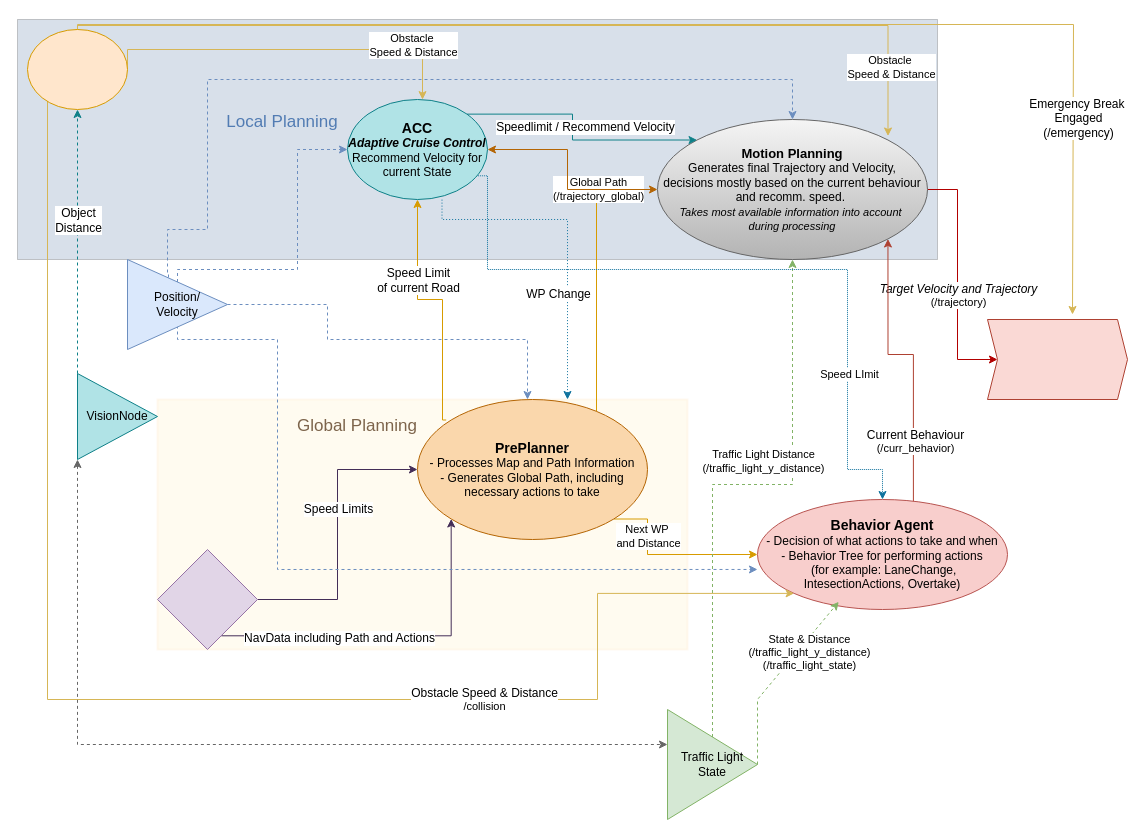
The diagram is 1146 pixels wide and 837 high, and some of its shapes have lost their labels. Here are the shapes that lost their labels. From the top down, the box of each, then its label:
(26, 28, 128, 110): Collision Check
(986, 318, 1128, 400): Steer & Throttle Control (with /vehicle_controler)
(156, 548, 258, 650): OpenDrive
